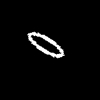chain: (28, 32, 63, 57)
